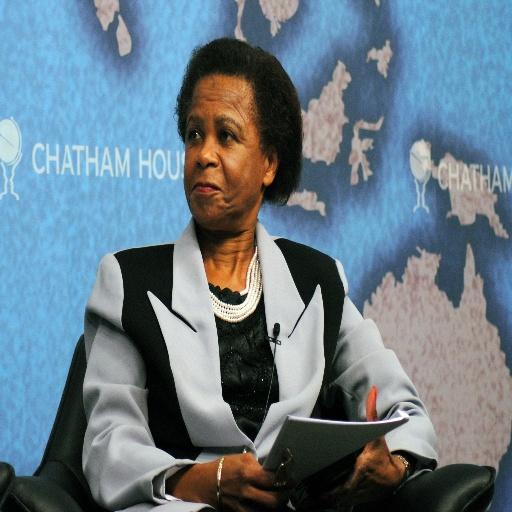hand: (206, 449, 296, 511), (359, 429, 408, 493)
